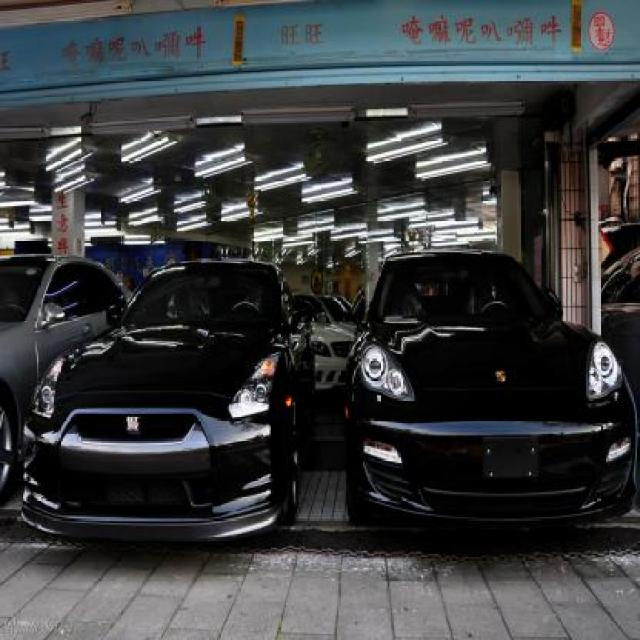Car: (19, 248, 316, 547), (344, 245, 638, 526), (0, 247, 132, 510), (284, 282, 354, 393)
